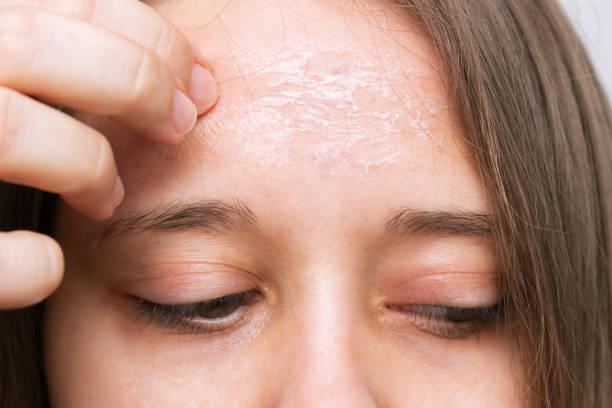Dry-Skin: (184, 41, 457, 193)
